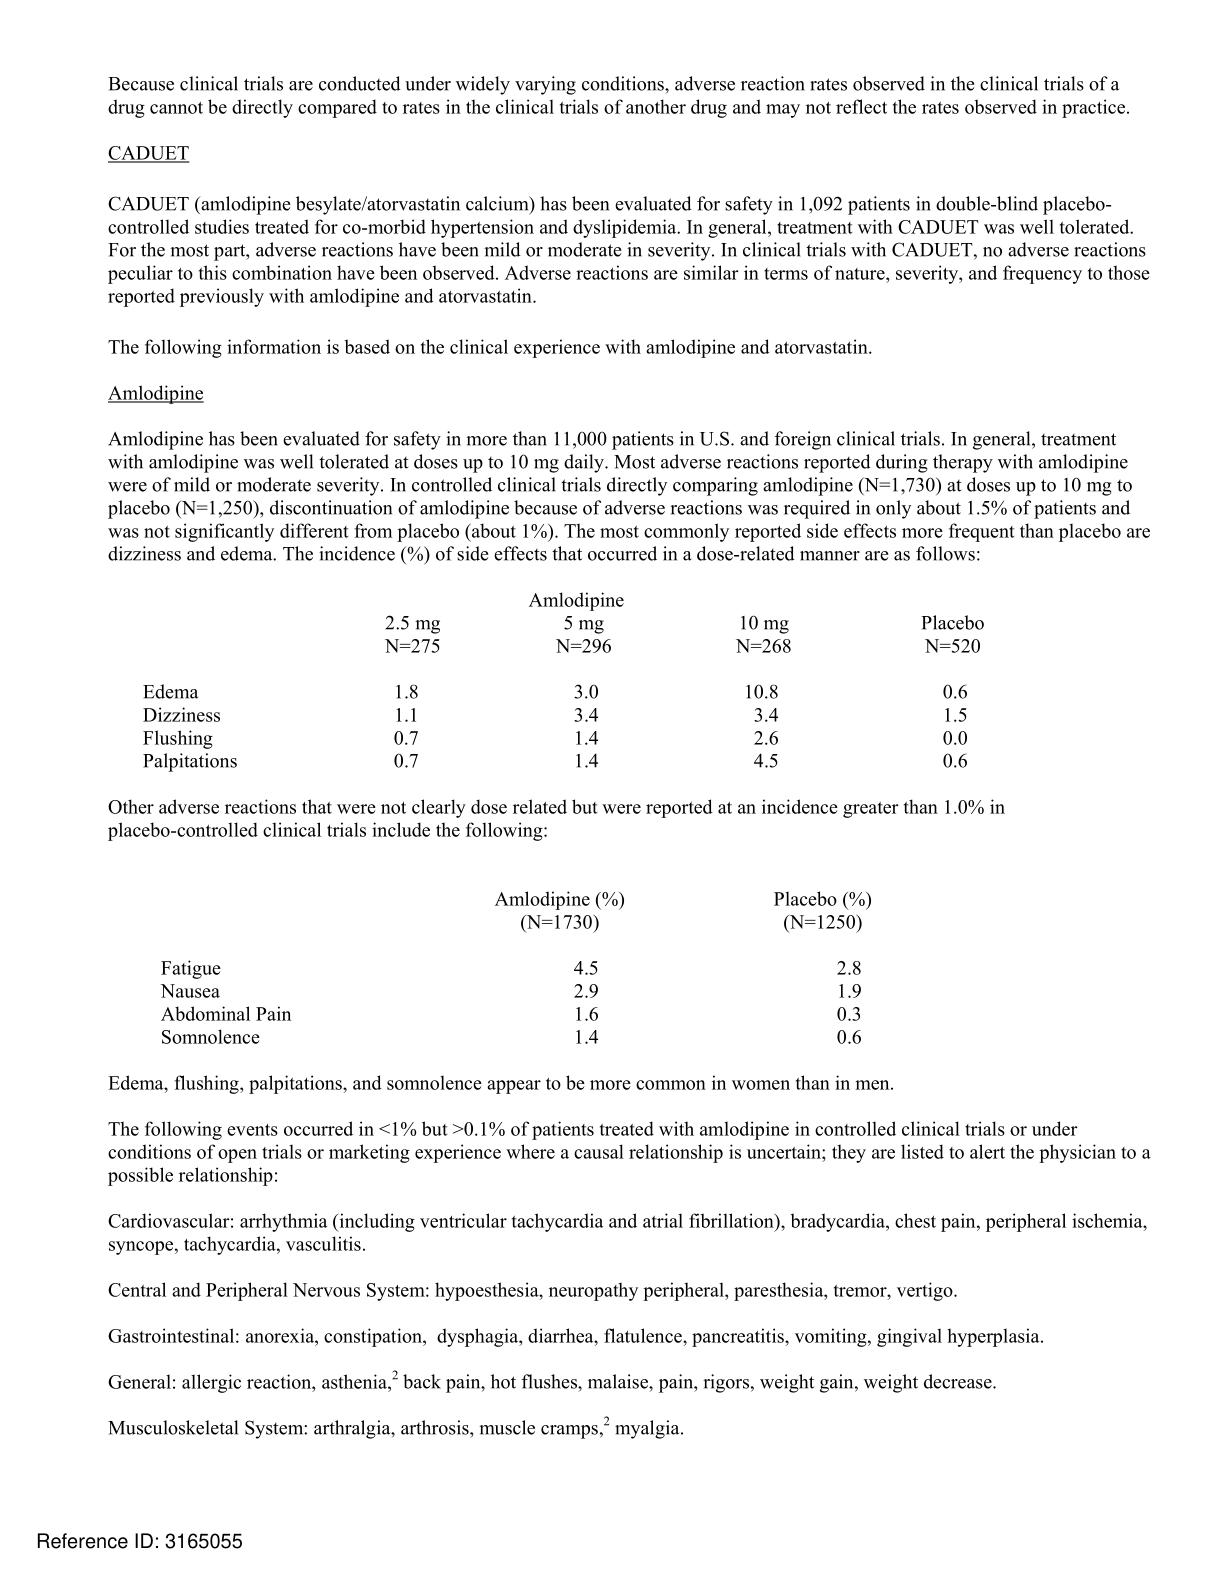nolines: (141, 613, 984, 771), (159, 891, 874, 1050)
